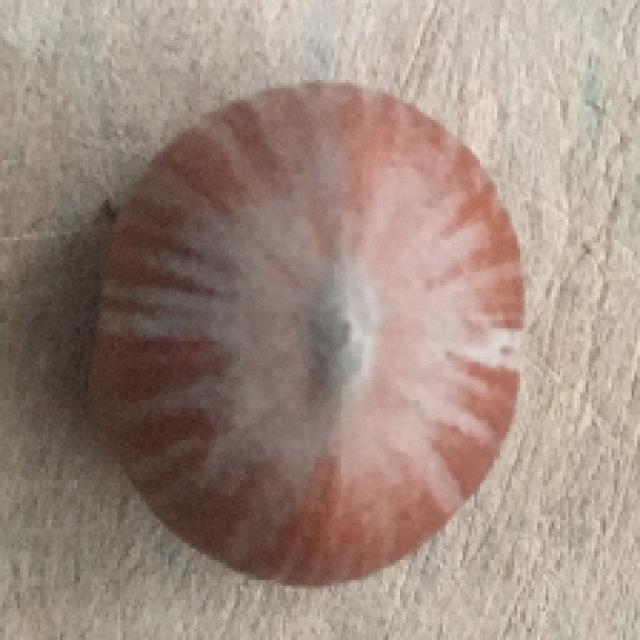qualityHazelnut: (89, 83, 525, 590)
